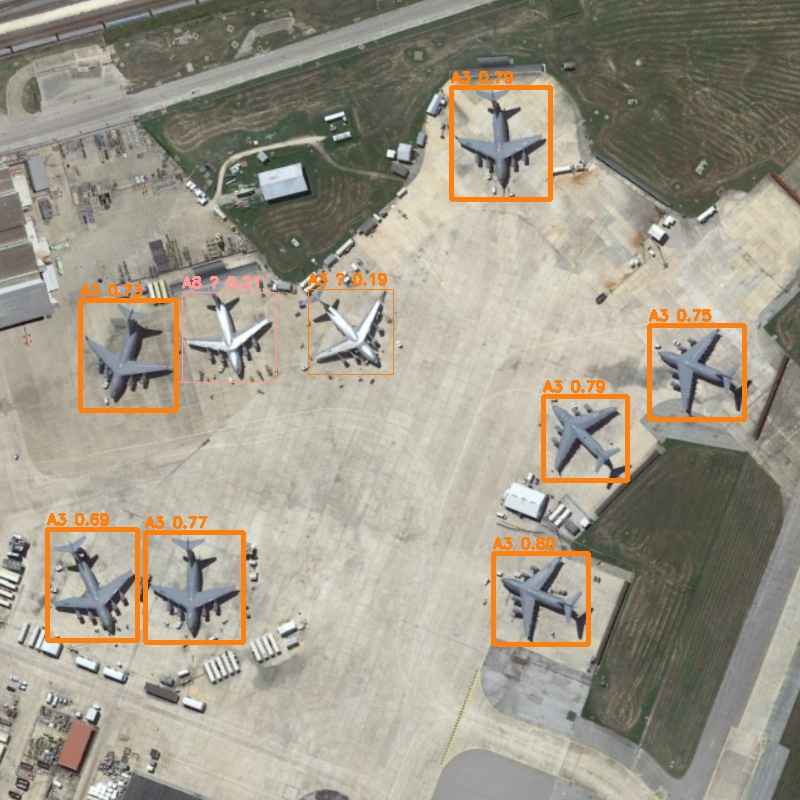A3: (451, 87, 550, 199), (145, 532, 243, 642), (80, 300, 176, 410), (47, 529, 137, 640), (649, 325, 744, 419), (493, 553, 588, 644), (308, 289, 393, 374), (543, 396, 627, 480)
A8: (182, 292, 276, 382)
